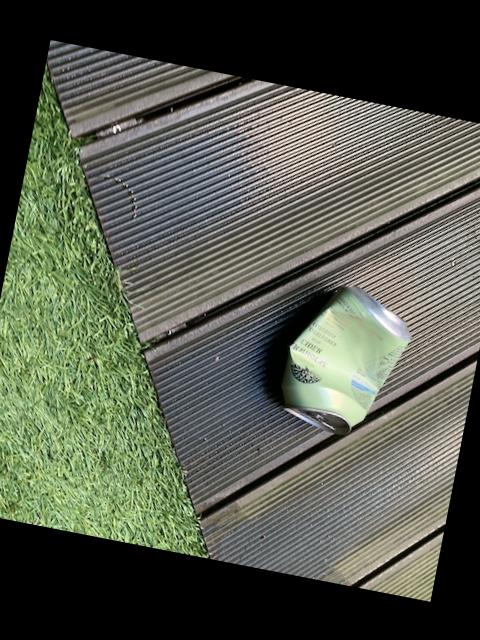metal: (283, 287, 411, 435)
